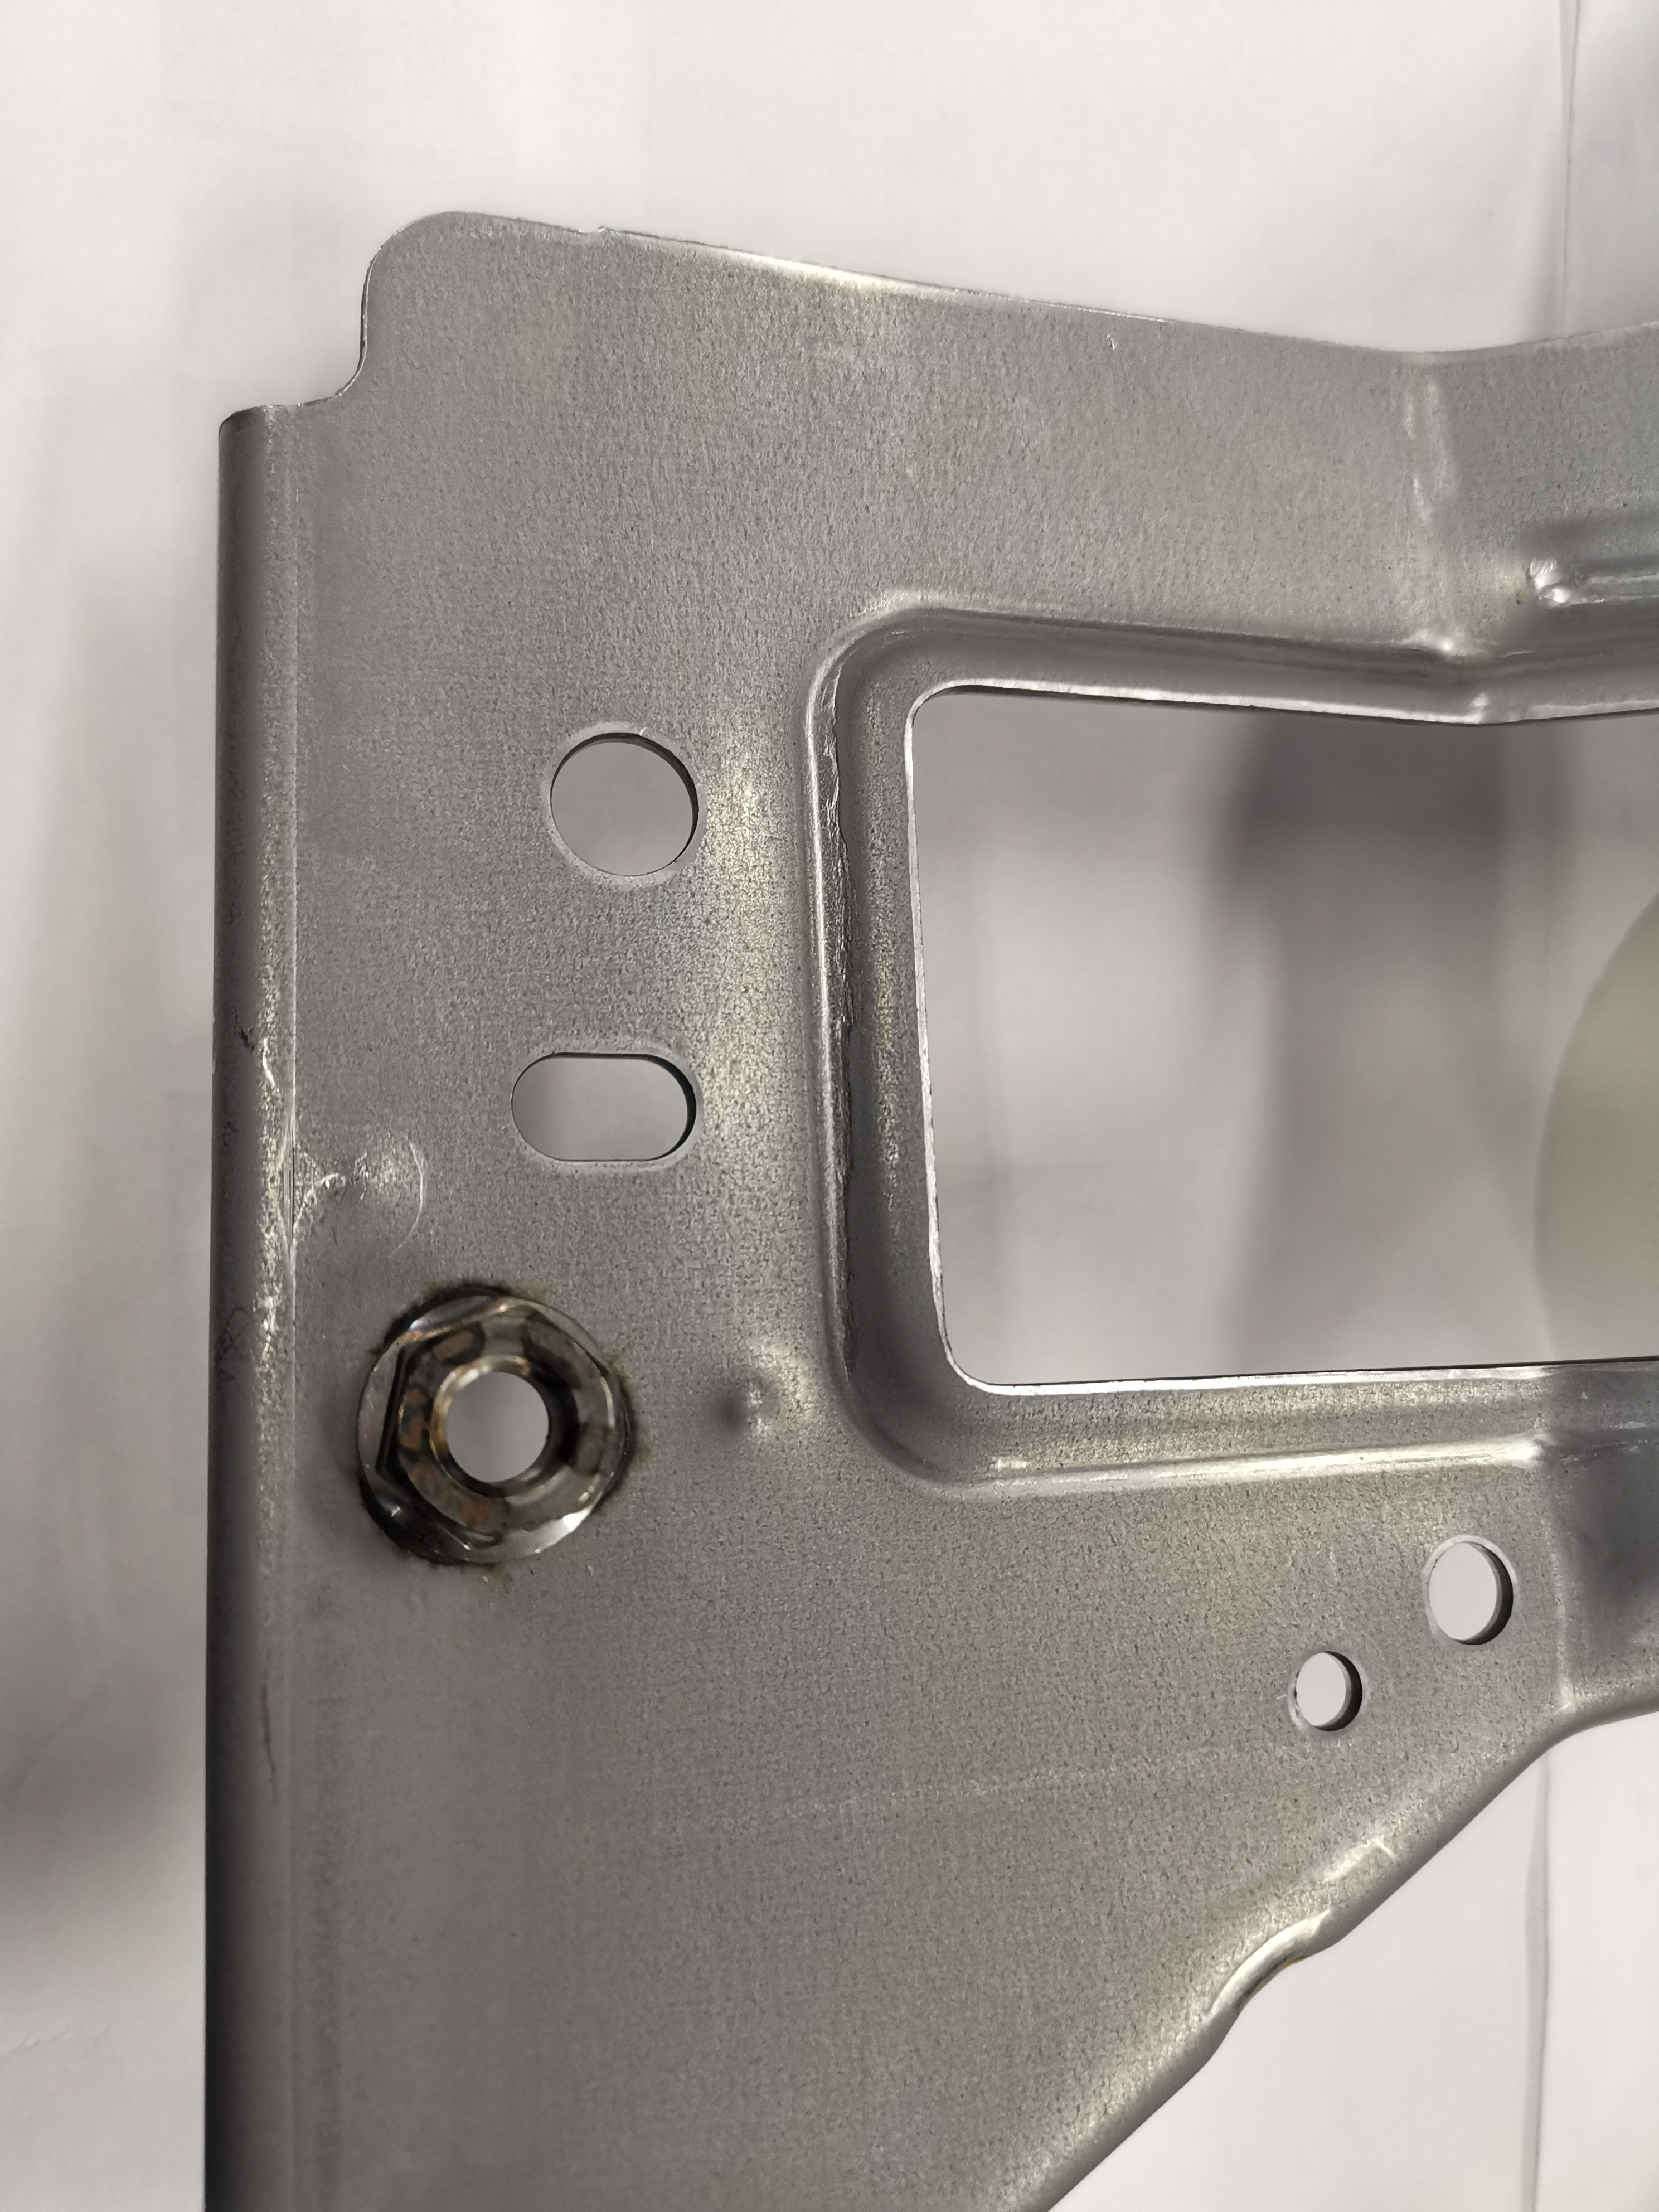dog: (340, 1270, 645, 1580)
